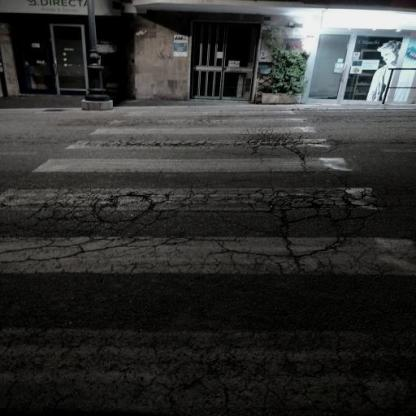crosswalk: (25, 138, 377, 176)
